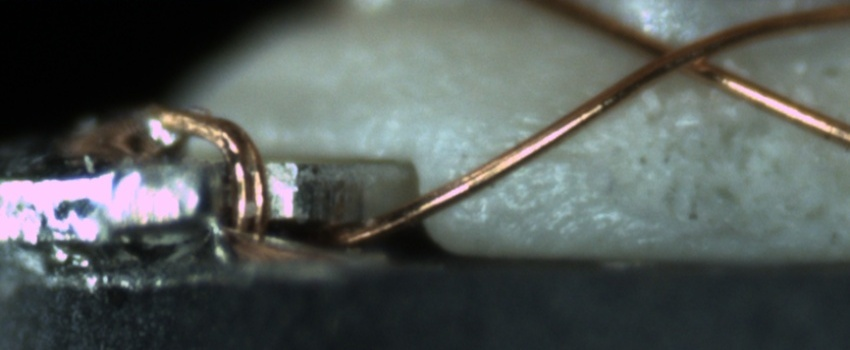CL: (630, 26, 729, 85)
DL: (441, 131, 606, 184)
TE: (134, 99, 282, 247)
